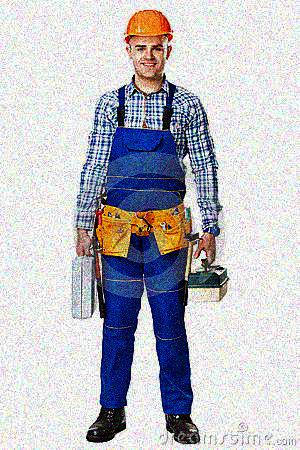helmet: (124, 10, 176, 79)
